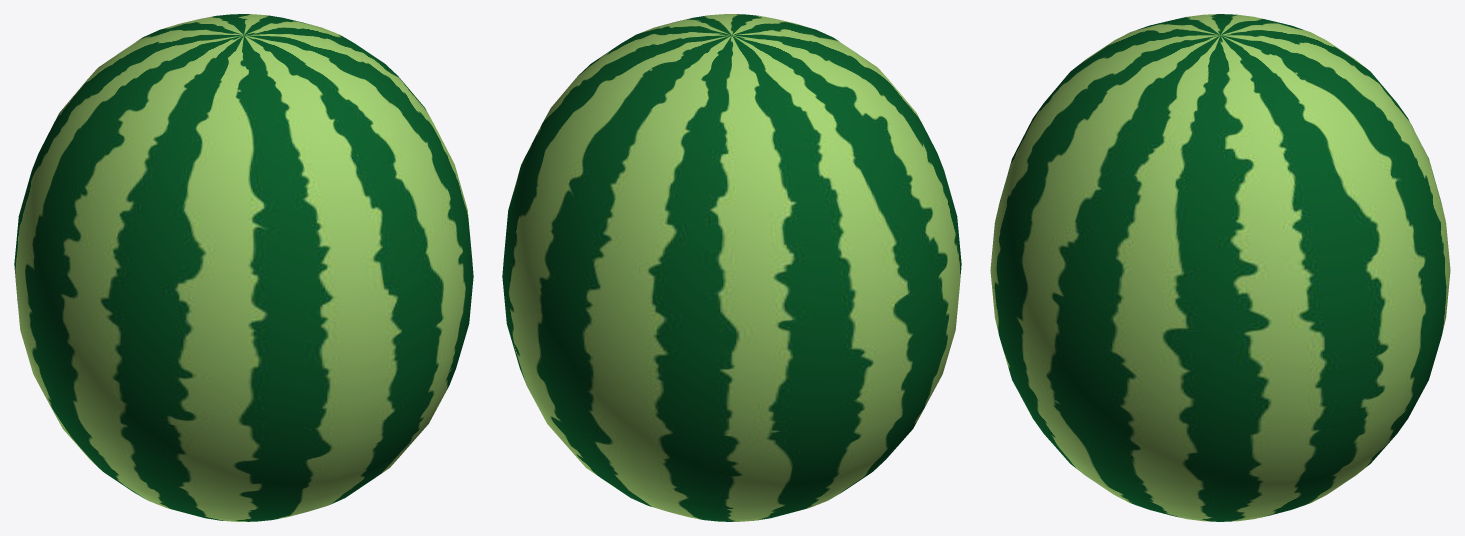
Rendered from karpuz.fbx.
3 views of the same model, side by side, from view 1: azimuth 30°, elevation 25°; view 2: azimuth 150°, elevation 25°; view 3: azimuth 270°, elevation 25° (orthographic).
Visible parts, largest first — view 1: Sphere; view 2: Sphere; view 3: Sphere.
Part boxes in pixels (bbox=[...]): Sphere: bbox=[14, 14, 473, 521]; Sphere: bbox=[502, 14, 961, 521]; Sphere: bbox=[990, 14, 1450, 521].
Bounding box in the file's own units: 200 × 223 × 200.
